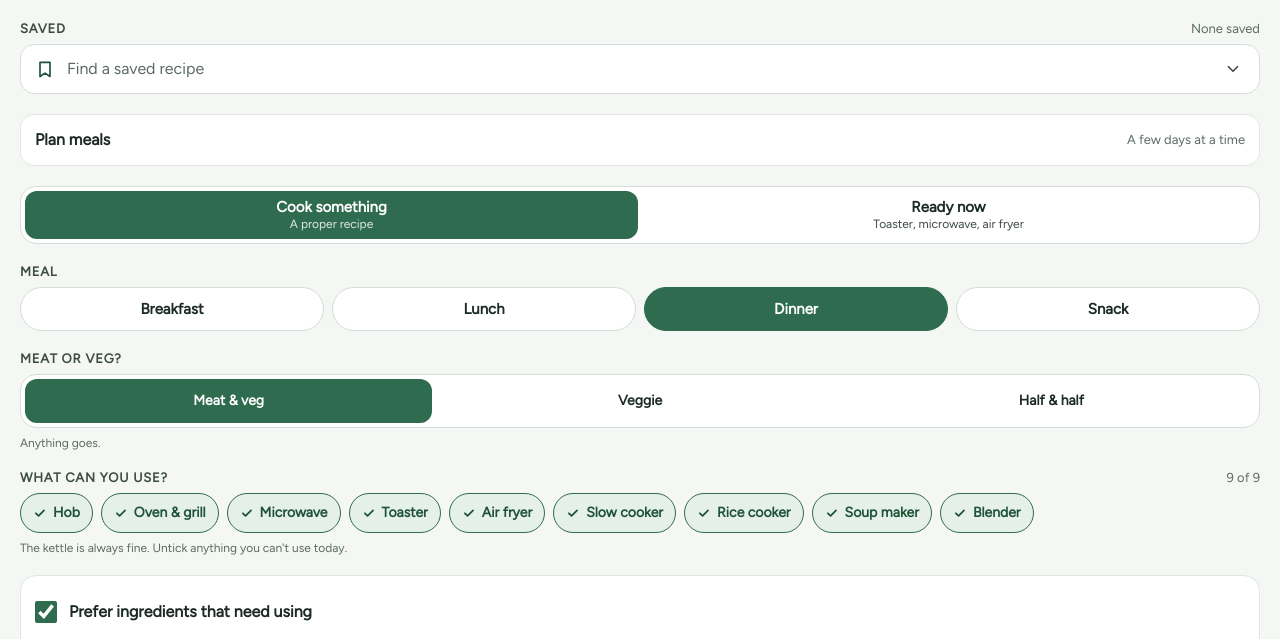
Test: Cook something | Ready now at the top: cook by default, with its own button wording and hints
Click the radio button labelled "Ready now Toaster, microwave, air fryer": (948,214) [642,190,1255,238]
(page scrolled)
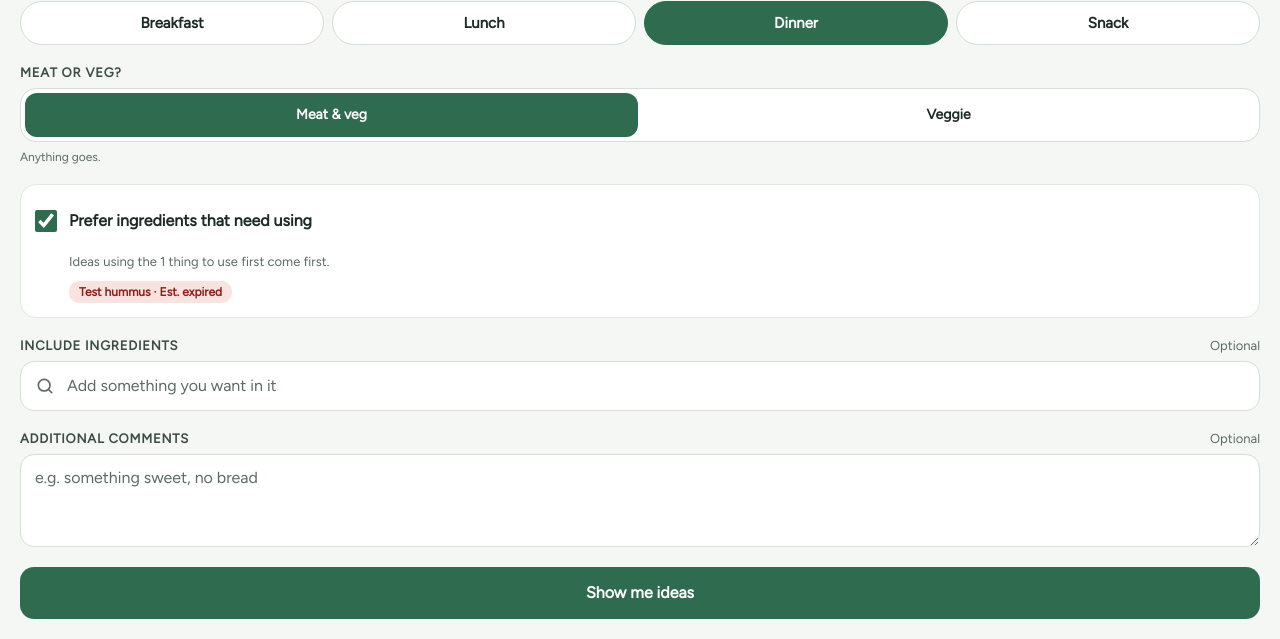
Check: the button "Show me ideas" is shown, box [20,567,1260,619]
Check: the text "Ideas using the 1 thing to use first come first." is shown, box [69,254,329,268]
